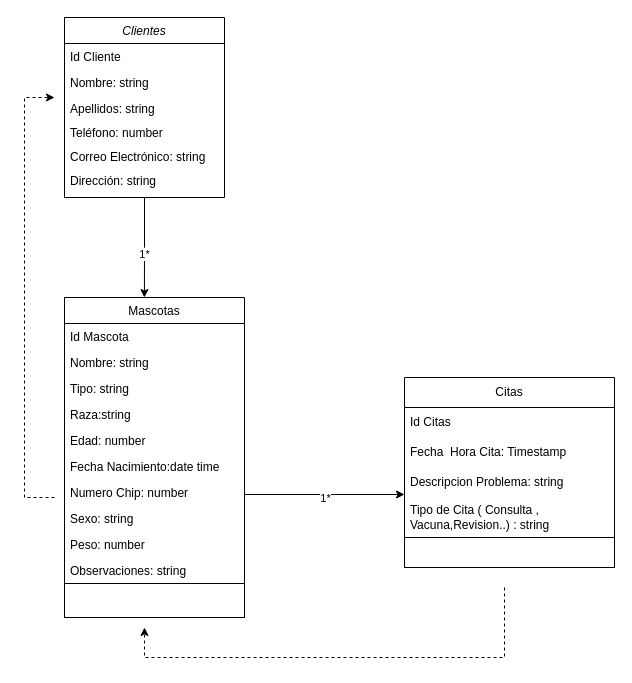
The diagram is 632 pixels wide and 683 high, and some of its shapes have lost their labels. Each missing label, with the centre of its shape:
"Id Cliente ( Clave Foranea ): string" goes at [154,600].
"Id Mascota ( Clave Foranea ) string" goes at [509,552].
